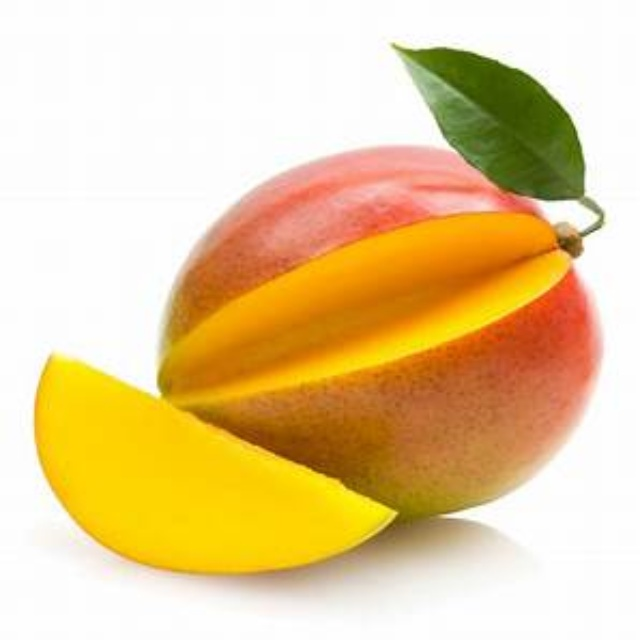mango: (34, 129, 602, 563)
